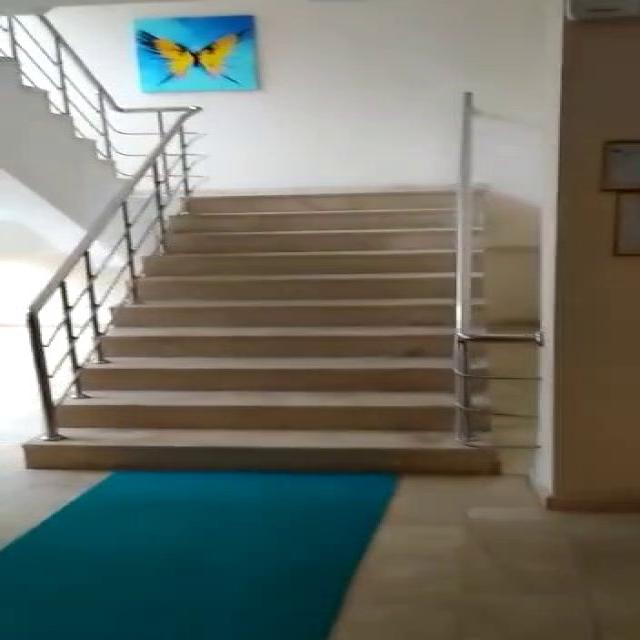upstair: (117, 130, 484, 470)
